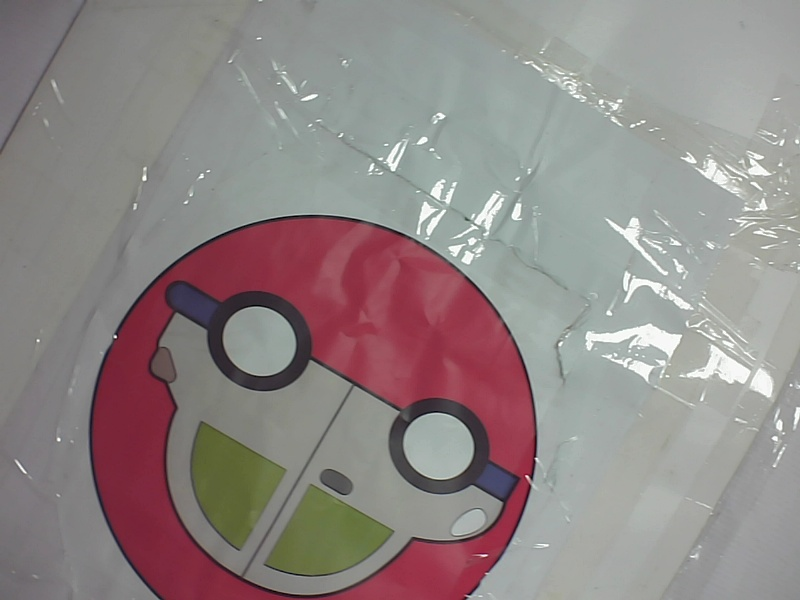areaC: (85, 210, 542, 598)
